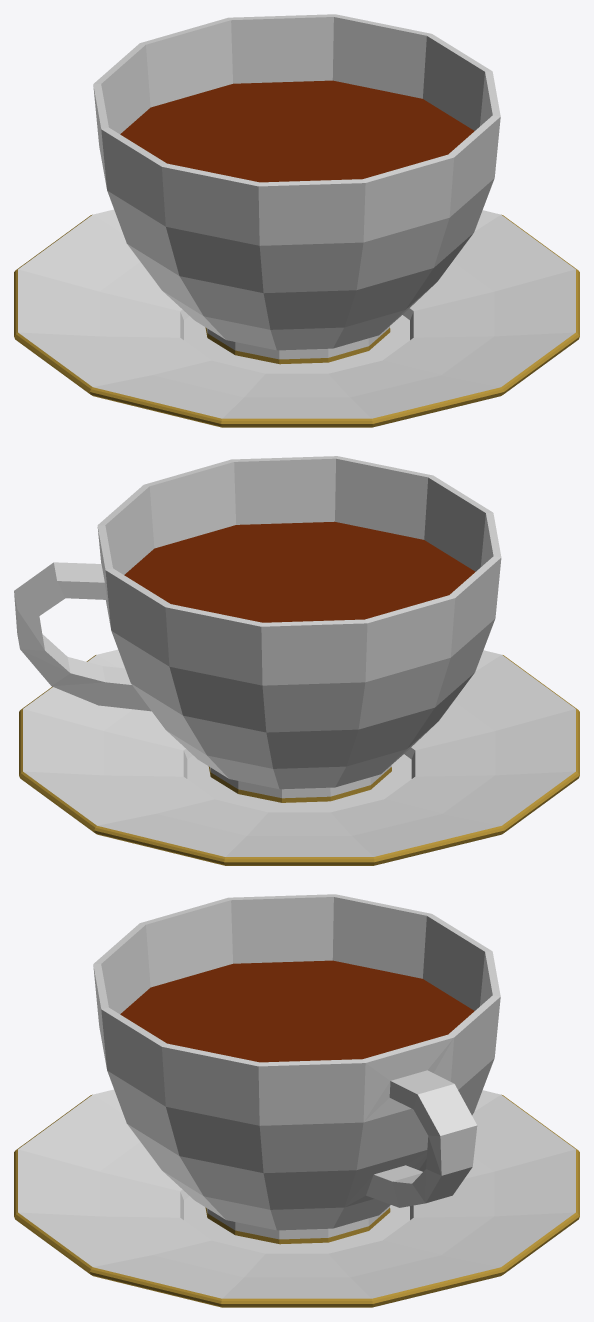
Rendered from cup of tea.gltf.
3 views of the same model, one above another, from view 1: azimuth 30°, elevation 25°; view 2: azimuth 150°, elevation 25°; view 3: azimuth 270°, elevation 25° (orthographic).
Parts seen in each view (by area): view 1: node-0; view 2: node-0; view 3: node-0.
Boxes of the visible parts, left/top/right/bottom form: node-0: left=14, top=14, right=579, bottom=427; node-0: left=14, top=456, right=579, bottom=865; node-0: left=14, top=894, right=579, bottom=1307.
Bounding box in the file's own units: 3.46 × 1.64 × 3.46.
